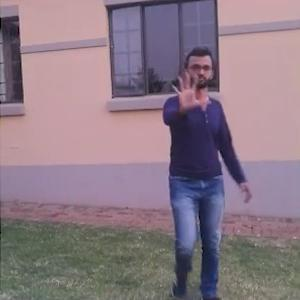follow_hand: (167, 65, 212, 114)
